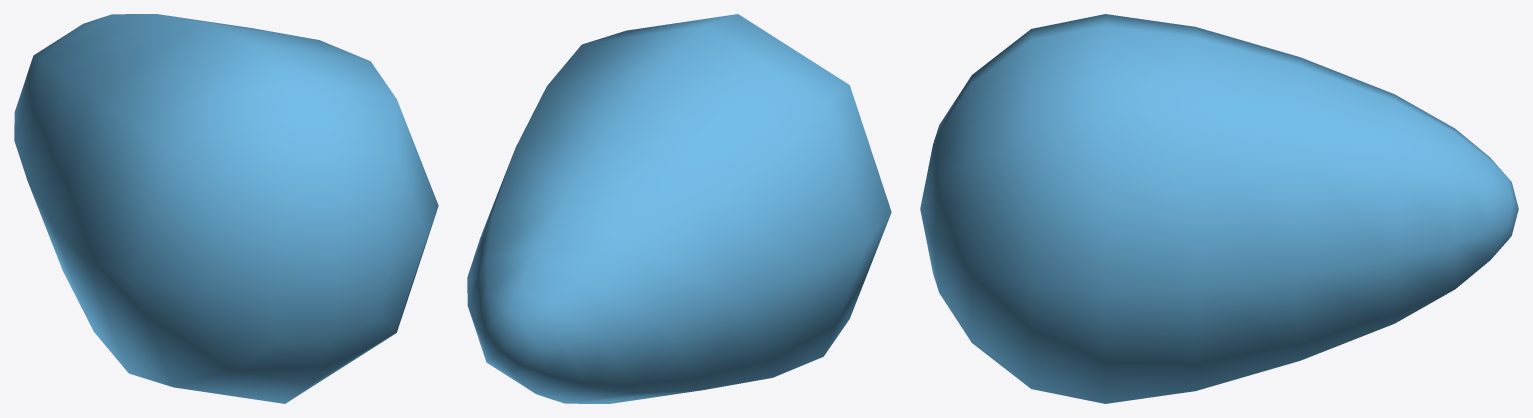
Rendered from GotaPintura.fbx.
3 views of the same model, side by side, from view 1: azimuth 30°, elevation 25°; view 2: azimuth 150°, elevation 25°; view 3: azimuth 270°, elevation 25° (orthographic). The views are drawn at different scales.
Visible parts, largest first — view 1: Cube; view 2: Cube; view 3: Cube.
Part boxes in pixels (x1,y1,x2,y2): Cube: (14, 14, 438, 403); Cube: (467, 14, 891, 403); Cube: (920, 14, 1518, 403).
Bounding box in the file's own units: 0.9529 × 0.9529 × 1.41.
